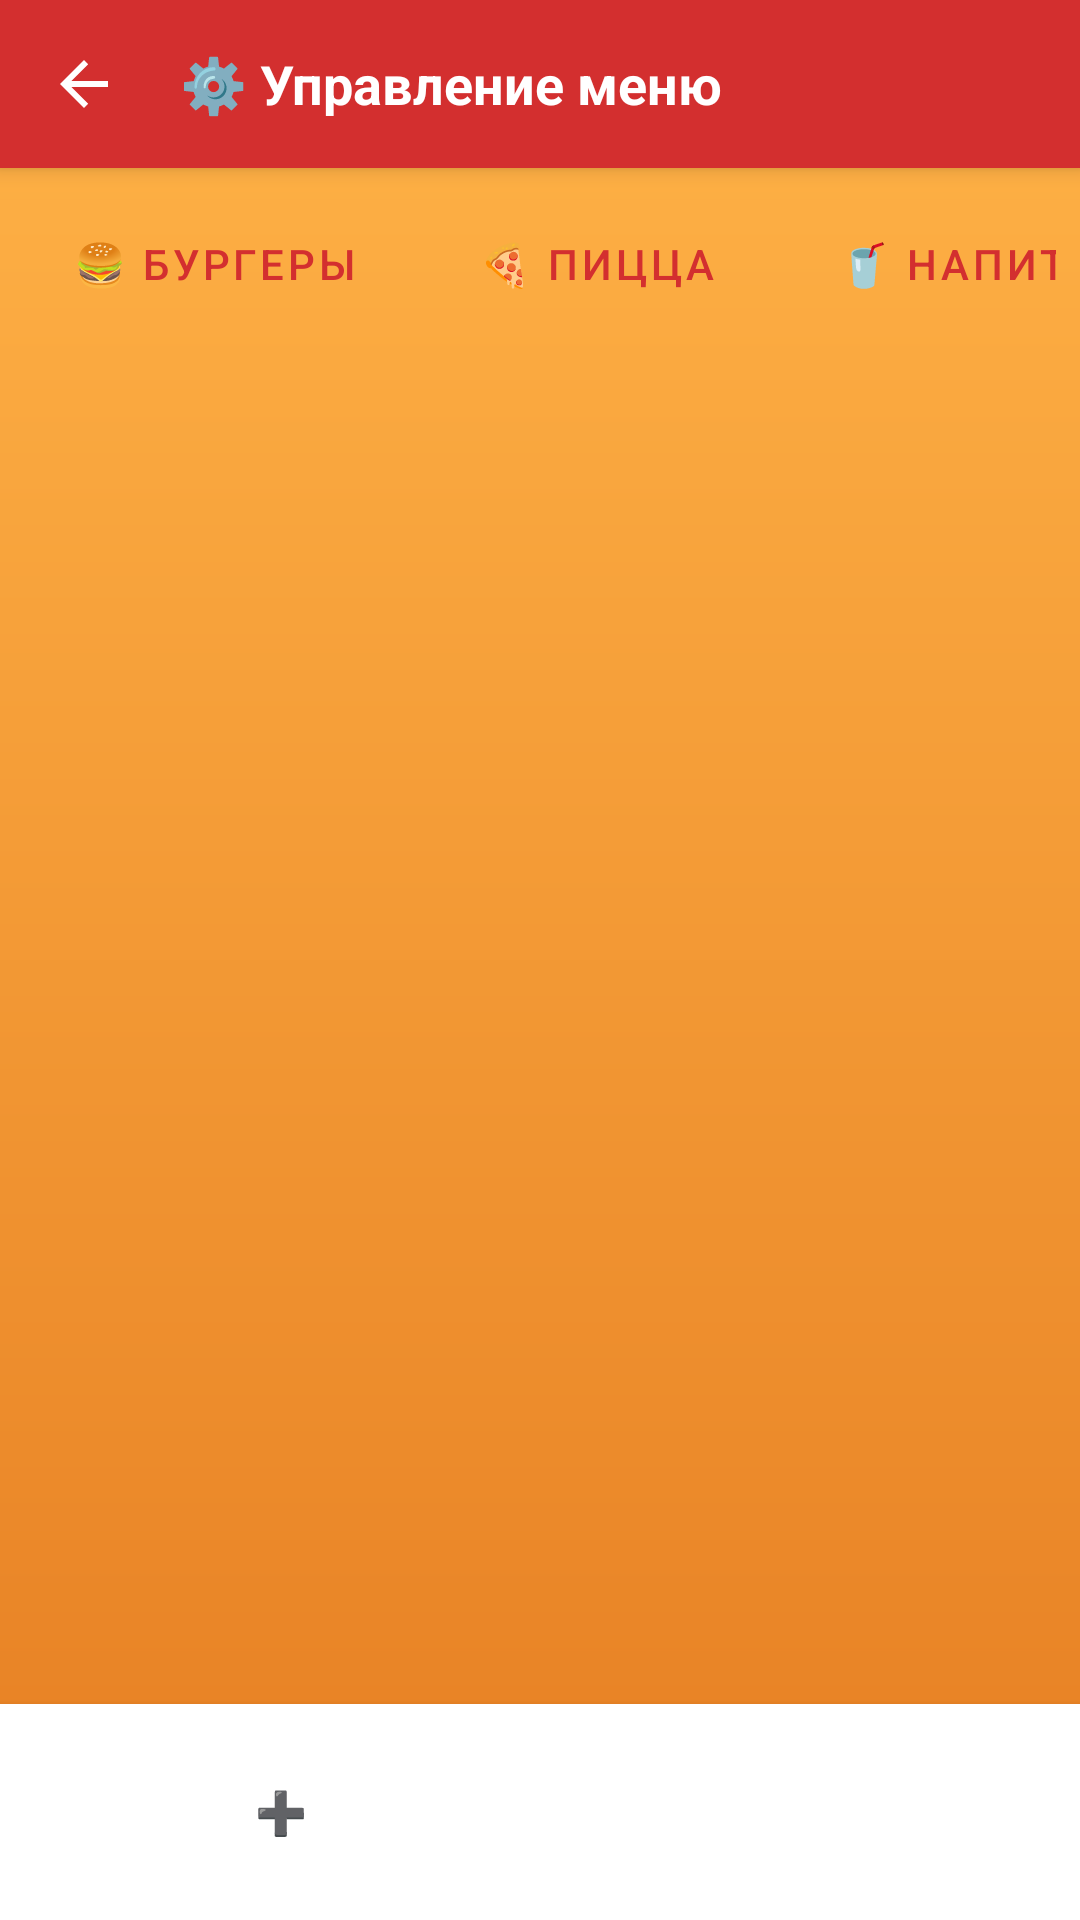

Screen size 1080x1920. Icon name, then its box in pixels as (left=x1, top=y1, right=x2, bottom=y2):
Назад: (left=60, top=60, right=108, bottom=108)
